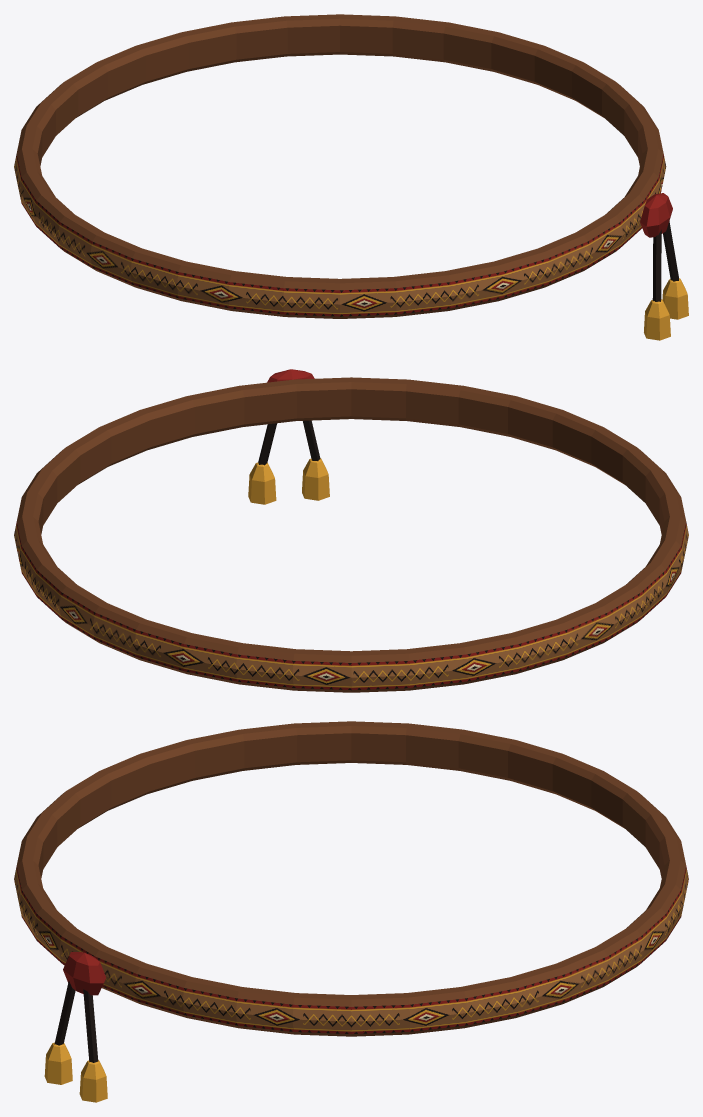
File: faja-tikuna-cocama.glb
The picture shows the model from 3 angles, top to bottom: view 1: azimuth 30°, elevation 25°; view 2: azimuth 150°, elevation 25°; view 3: azimuth 270°, elevation 25°; orthographic projection. The views are drawn at different scales.
Visible parts, largest first — view 1: faja-tikuna-cocama; view 2: faja-tikuna-cocama; view 3: faja-tikuna-cocama.
Part boxes in pixels (left/top/right/bottom): faja-tikuna-cocama: left=14, top=14, right=688, bottom=340; faja-tikuna-cocama: left=14, top=369, right=688, bottom=692; faja-tikuna-cocama: left=14, top=721, right=688, bottom=1102.
Bounding box in the file's own units: 0.496 × 0.111 × 0.496.
5 materials, 1 textured.
